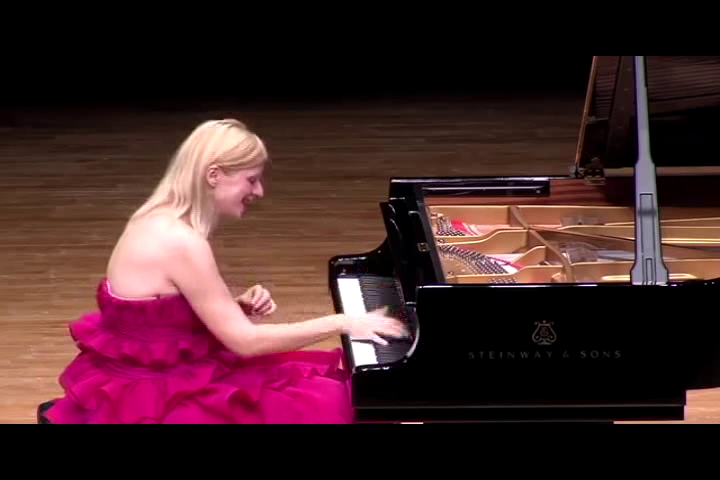keyboard: (335, 264, 416, 390)
